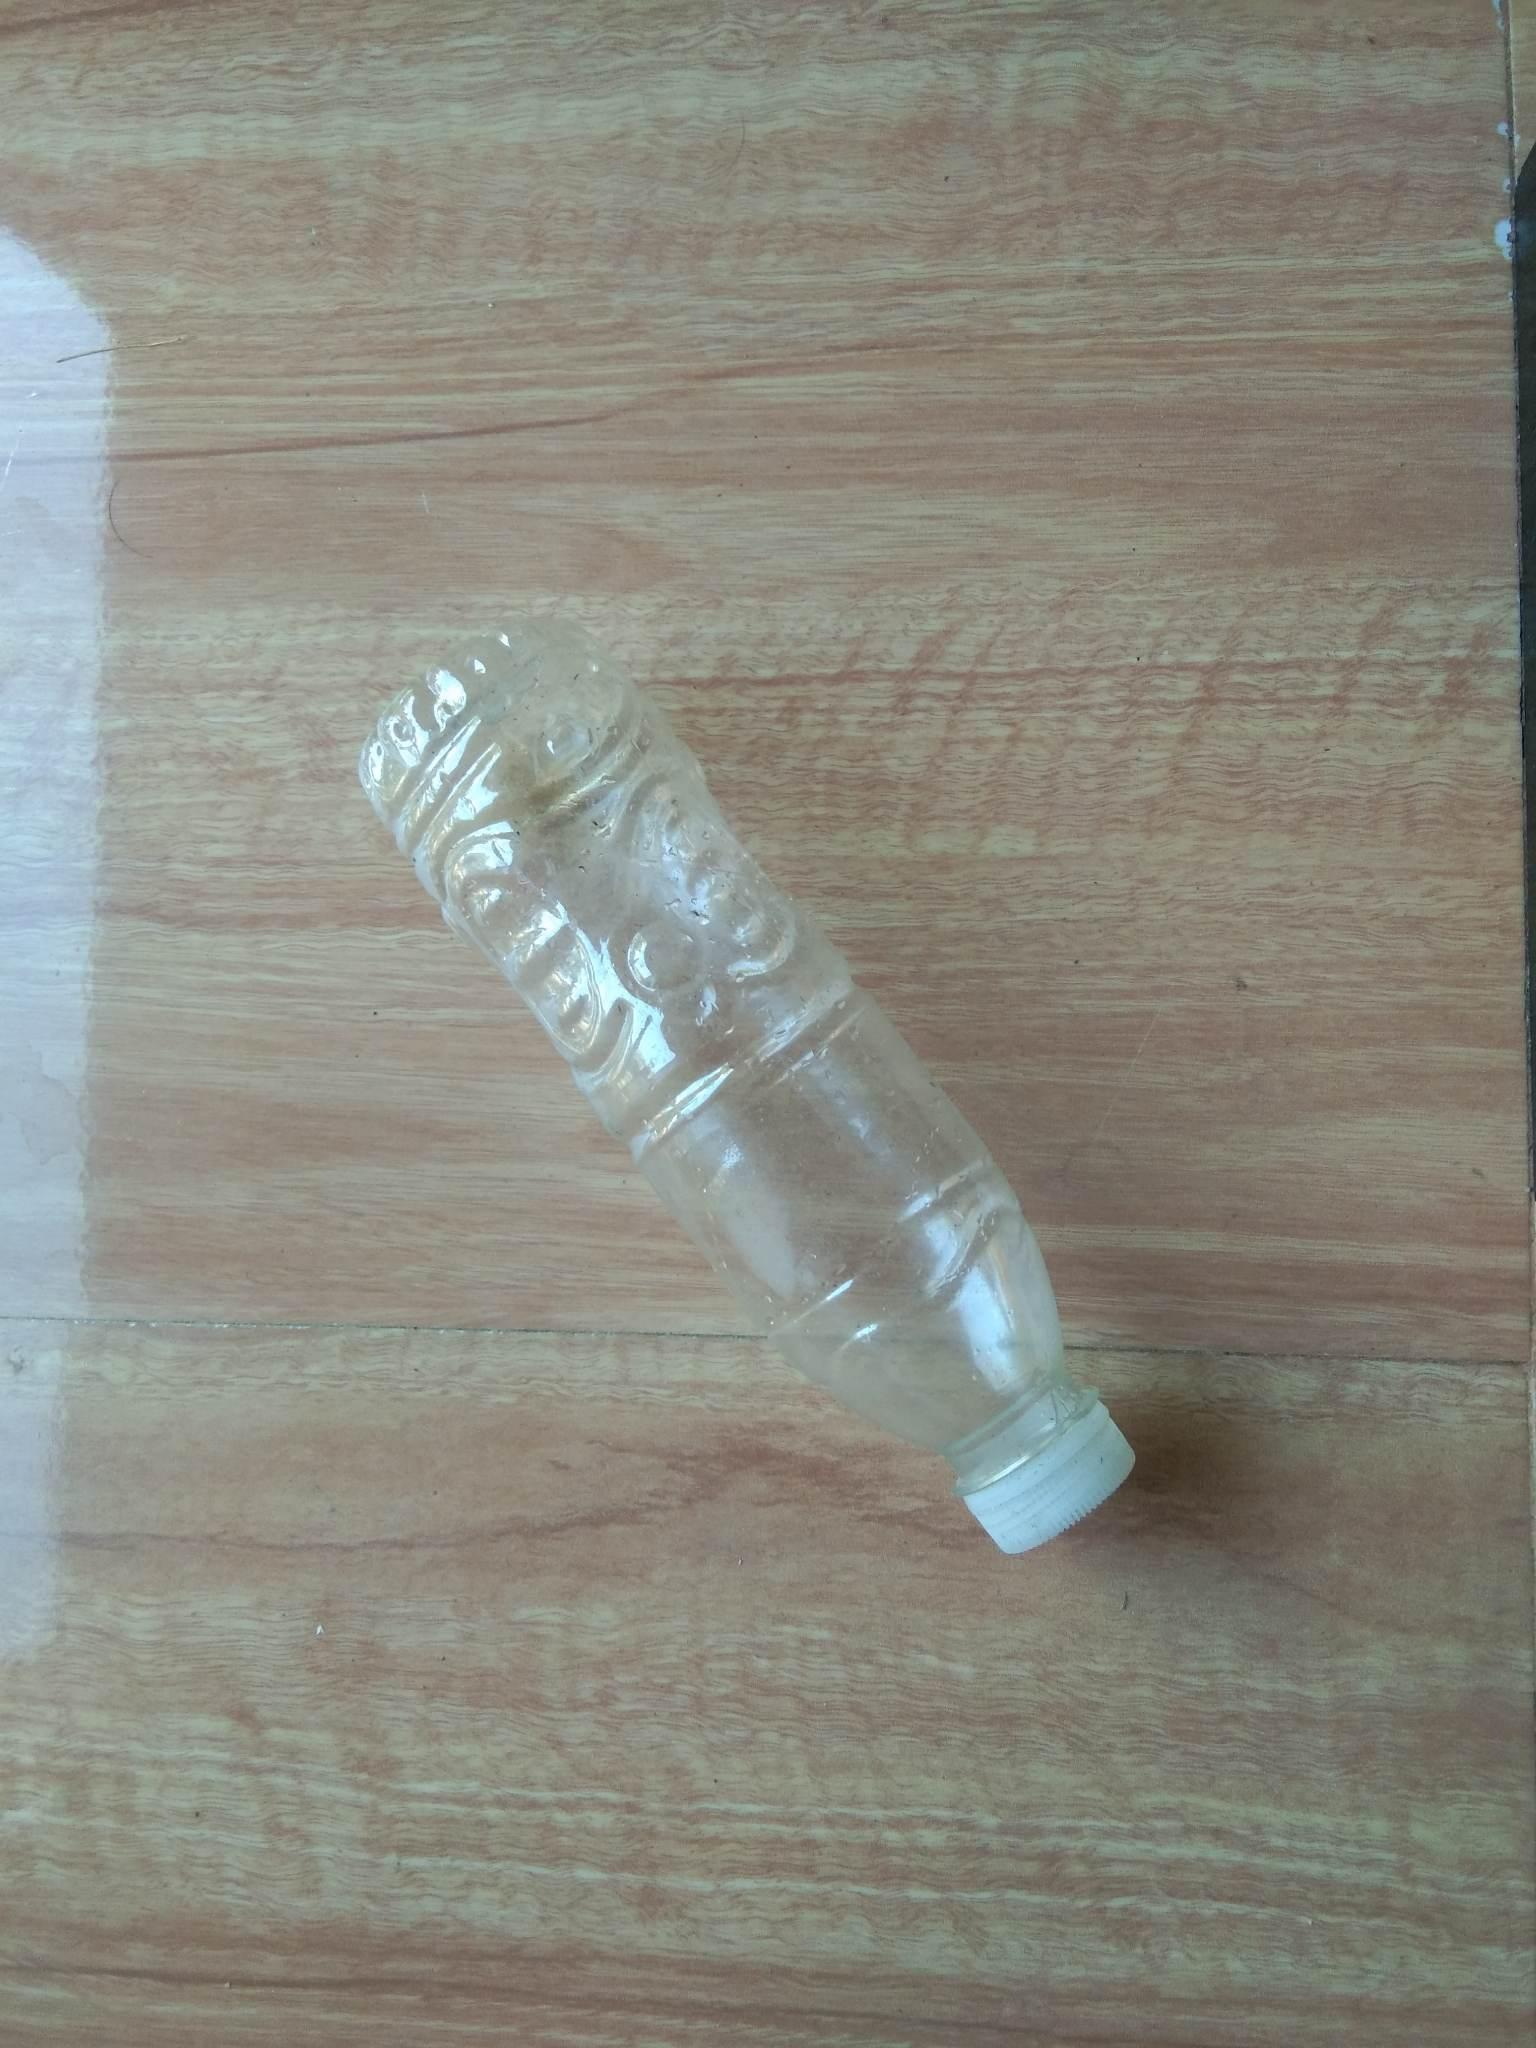plastic: (282, 564, 1136, 1588)
